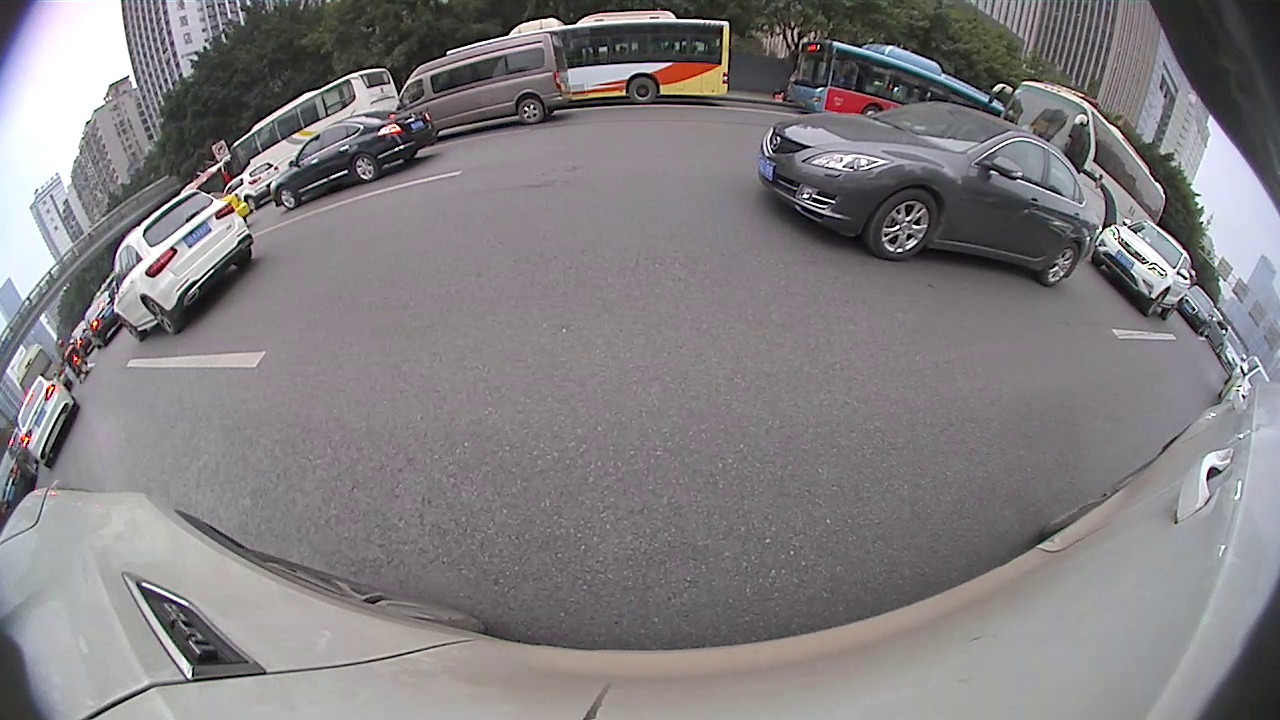bus: (987, 77, 1167, 232), (444, 10, 731, 104), (231, 68, 399, 171), (786, 38, 1004, 117), (9, 343, 69, 400)
car: (758, 99, 1100, 287), (111, 188, 256, 343), (269, 108, 441, 210), (396, 32, 570, 125), (1089, 219, 1196, 323), (13, 372, 76, 469), (1, 447, 39, 525), (223, 162, 284, 210), (1221, 353, 1268, 404), (82, 292, 122, 351), (1208, 319, 1245, 378), (1176, 283, 1212, 342), (205, 192, 252, 221)
front: (866, 191, 937, 259), (117, 312, 148, 341), (1143, 289, 1169, 315), (277, 186, 299, 209)
rear: (142, 296, 185, 334), (1042, 247, 1082, 285), (627, 77, 657, 103), (353, 154, 377, 181), (519, 98, 543, 125), (1159, 298, 1184, 319)
rider: (59, 339, 91, 383)
